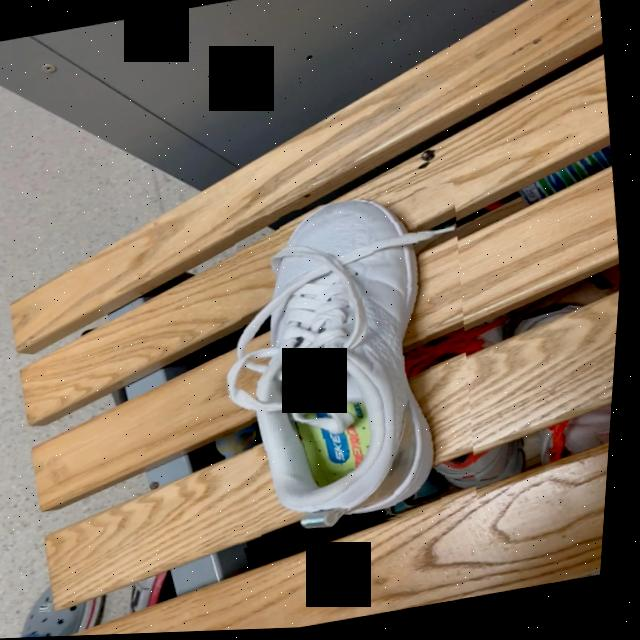shoe: (230, 202, 461, 536)
